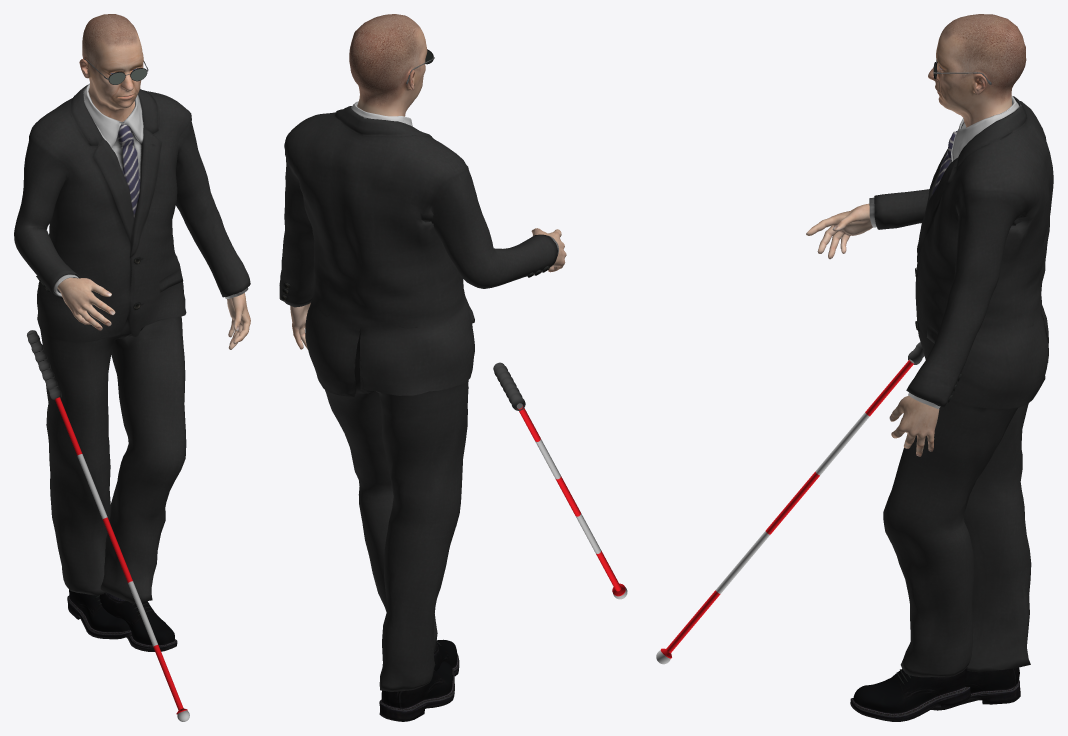
File: blind_man.fbx
3 views of the same model, side by side, from view 1: azimuth 30°, elevation 25°; view 2: azimuth 150°, elevation 25°; view 3: azimuth 270°, elevation 25° (orthographic). The views are drawn at different scales.
Visible parts, largest first — view 1: obj16, obj18, obj15, obj13, obj12, obj14; view 2: obj16, obj18, obj15, obj13, obj12, obj14; view 3: obj16, obj18, obj15, obj13, obj12.
Part boxes in pixels (<box>): obj16: <box>14,83,250,603</box>; obj18: <box>57,14,250,349</box>; obj15: <box>67,589,177,651</box>; obj13: <box>55,397,187,714</box>; obj12: <box>77,454,189,721</box>; obj14: <box>27,330,61,400</box>; obj16: <box>279,101,558,691</box>; obj18: <box>290,14,566,349</box>; obj15: <box>379,639,459,721</box>; obj13: <box>517,406,625,596</box>; obj12: <box>516,403,627,599</box>; obj14: <box>493,362,525,410</box>; obj16: <box>869,95,1053,677</box>; obj18: <box>806,14,1026,456</box>; obj15: <box>850,667,1020,721</box>; obj13: <box>660,360,913,658</box>; obj12: <box>656,359,914,664</box>.
Bounding box in the file's own units: 64.2 × 168 × 87.41.
Materials: 10 (4 with a texture image).
